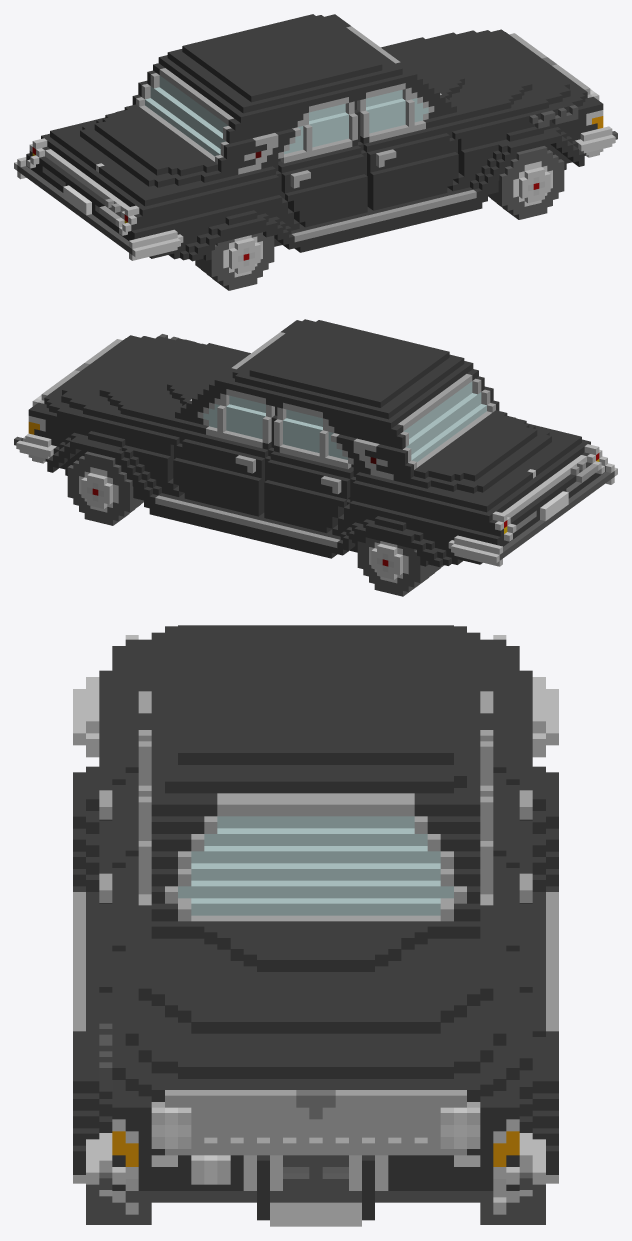
Rendered from car.glb.
The picture shows the model from 3 angles, top to bottom: view 1: azimuth 30°, elevation 25°; view 2: azimuth 150°, elevation 25°; view 3: azimuth 270°, elevation 25°; orthographic projection. The views are drawn at different scales.
Parts seen in each view (by area): view 1: VoxTransform; view 2: VoxTransform; view 3: VoxTransform.
Boxes of the visible parts, box(x1,y1,x2,y2) form: VoxTransform: box(14, 14, 617, 290); VoxTransform: box(14, 319, 617, 596); VoxTransform: box(73, 625, 558, 1226).
Size of the model in its own units: 86 by 28 by 37.
